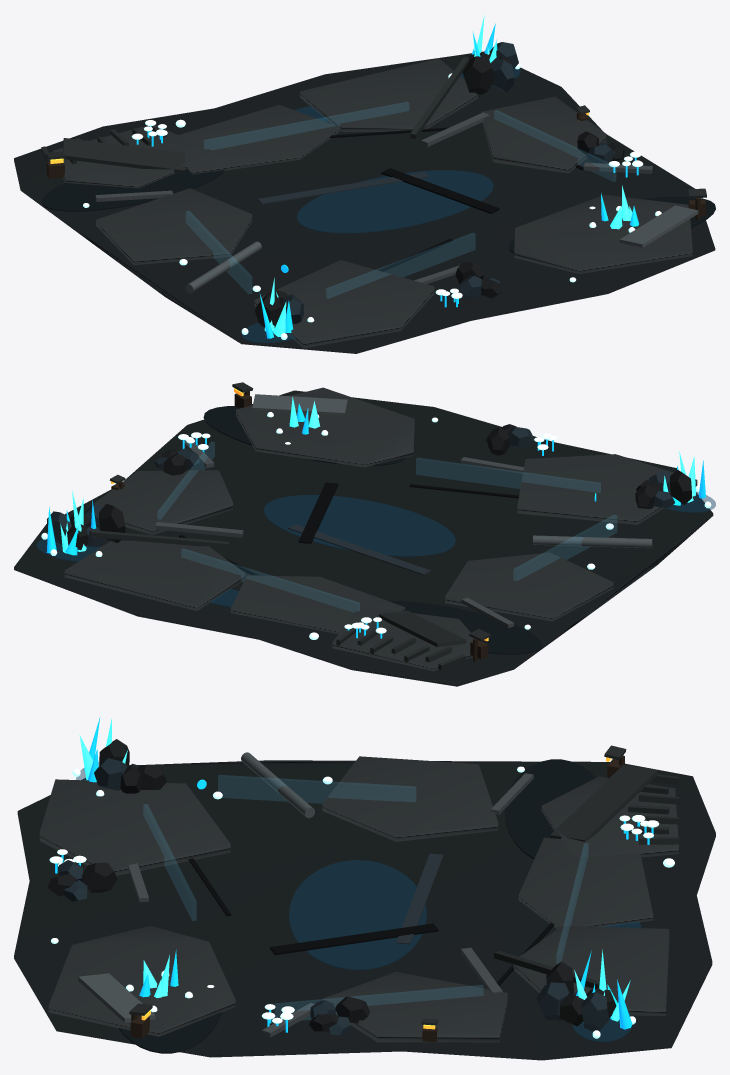
The model's file is ash-ground.glb.
3 renders of one model, top to bottom at view 1: azimuth 30°, elevation 25°; view 2: azimuth 150°, elevation 25°; view 3: azimuth 270°, elevation 25°, orthographic. The views are drawn at different scales.
Visible parts, largest first — view 1: UnevenWetAshFoundation, RearRightRoadPlate, RearLeftRoadPlate, LeftEdgeSlab, FrontRightRoadPlate, WetAshReflectionPool, FrontBrokenCenterPlate, RightEdgeRaisedPlate, FrontLeftRoadPlate, SouthWestDampAshPatch, BentGunmetalDeckSheetA, LowMistRearBand (+13 smaller); view 2: UnevenWetAshFoundation, RearRightRoadPlate, FrontRightRoadPlate, RearLeftRoadPlate, LeftEdgeSlab, WetAshReflectionPool, FrontBrokenCenterPlate, RightEdgeRaisedPlate, FrontLeftRoadPlate, SouthWestDampAshPatch, LowMistRearBand, BasaltShard3 (×3) (+13 smaller); view 3: UnevenWetAshFoundation, RearLeftRoadPlate, RearRightRoadPlate, LeftEdgeSlab, WetAshReflectionPool, FrontBrokenCenterPlate, RightEdgeRaisedPlate, FrontRightRoadPlate, FrontLeftRoadPlate, SouthWestDampAshPatch, LowMistLeftEdge, BentGunmetalDeckSheetA (+17 smaller).
Boxes of the visible parts, x1,y1,x2,y2 form: UnevenWetAshFoundation: (14, 51, 715, 353); RearRightRoadPlate: (514, 194, 692, 273); RearLeftRoadPlate: (254, 260, 434, 348); LeftEdgeSlab: (96, 188, 252, 265); FrontRightRoadPlate: (300, 58, 477, 132); WetAshReflectionPool: (297, 170, 493, 233); FrontBrokenCenterPlate: (178, 104, 339, 174); RightEdgeRaisedPlate: (481, 96, 606, 173); FrontLeftRoadPlate: (53, 125, 214, 188); SouthWestDampAshPatch: (42, 168, 224, 211); BentGunmetalDeckSheetA: (63, 138, 185, 173); LowMistRearBand: (326, 233, 474, 297); UnevenWetAshFoundation: (14, 390, 713, 686); RearRightRoadPlate: (236, 387, 414, 467); FrontRightRoadPlate: (64, 540, 245, 610); RearLeftRoadPlate: (517, 454, 697, 524); LeftEdgeSlab: (445, 552, 613, 621); WetAshReflectionPool: (264, 495, 455, 556); FrontBrokenCenterPlate: (230, 575, 404, 634); RightEdgeRaisedPlate: (87, 470, 232, 534); FrontLeftRoadPlate: (332, 606, 473, 671); SouthWestDampAshPatch: (388, 601, 541, 654); LowMistRearBand: (416, 458, 600, 492); BasaltShard3 (×3): (99, 427, 691, 542); UnevenWetAshFoundation: (14, 760, 715, 1060); RearLeftRoadPlate: (39, 779, 230, 875); RearRightRoadPlate: (48, 925, 235, 1036); LeftEdgeSlab: (322, 756, 498, 841); WetAshReflectionPool: (289, 860, 426, 970); FrontBrokenCenterPlate: (518, 837, 653, 928); RightEdgeRaisedPlate: (323, 972, 507, 1042); FrontRightRoadPlate: (513, 926, 669, 1015); FrontLeftRoadPlate: (541, 776, 678, 857); SouthWestDampAshPatch: (504, 759, 595, 858); LowMistLeftEdge: (218, 775, 415, 802); BentGunmetalDeckSheetA: (550, 765, 658, 841).
Size of the model in its own units: 7.92 by 1.02 by 7.92.
